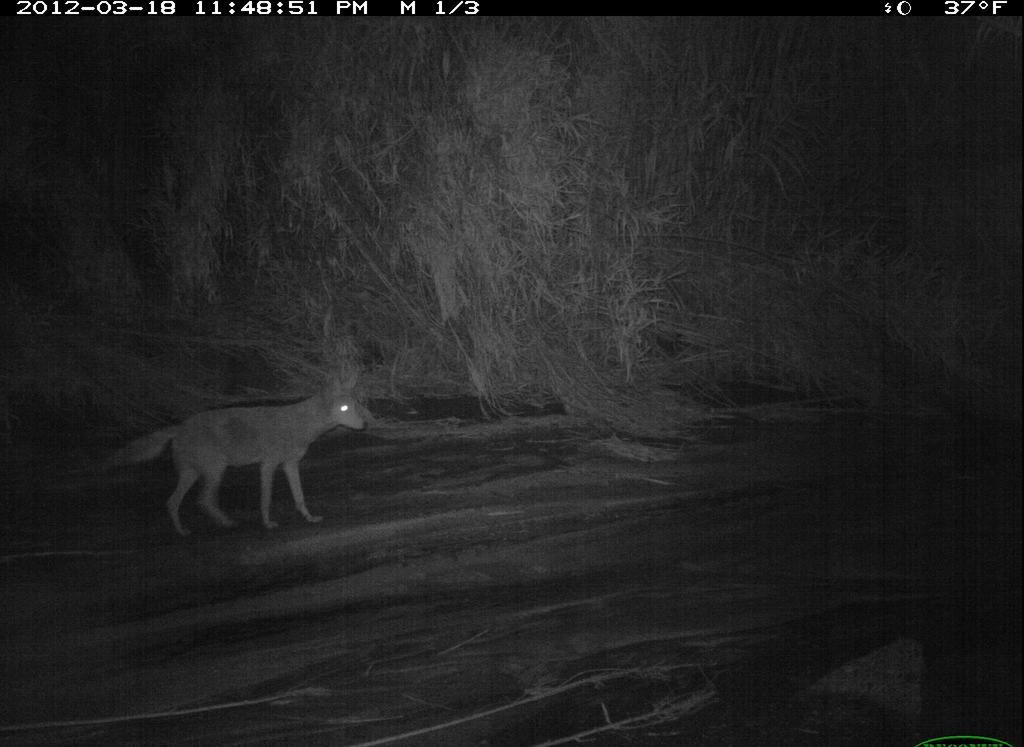coyote: (102, 386, 382, 551)
